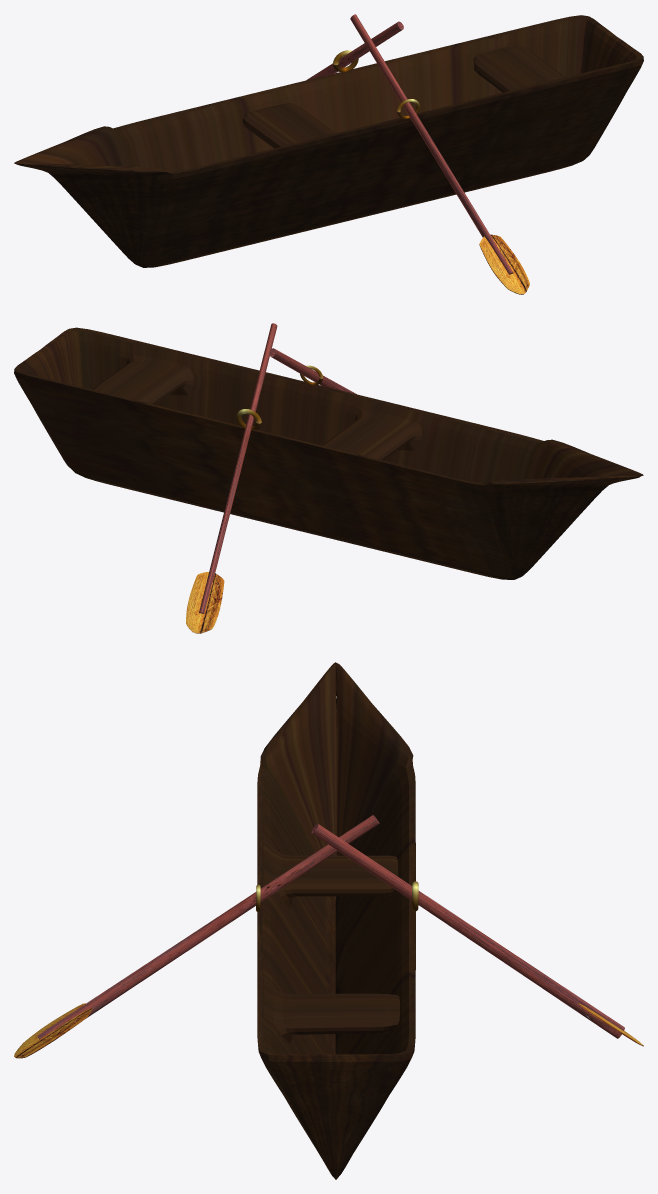
Rendered from stateczekMK4.glb.
The picture shows the model from 3 angles, top to bottom: view 1: azimuth 30°, elevation 25°; view 2: azimuth 150°, elevation 25°; view 3: azimuth 270°, elevation 25°; orthographic projection. The views are drawn at different scales.
Parts seen in each view (by area): view 1: Cube, Cylinder.001, Cube.002, Cylinder.002; view 2: Cube, Cylinder.002, Cube.001, Cylinder.001; view 3: Cube, Cylinder.002, Cylinder.001, Cube.002.
Boxes of the visible parts, <box> form: Cube: <box>14,15,643,267</box>; Cylinder.001: <box>350,14,513,274</box>; Cube.002: <box>479,234,529,294</box>; Cylinder.002: <box>306,21,403,80</box>; Cube: <box>14,327,643,579</box>; Cylinder.002: <box>199,323,277,613</box>; Cube.001: <box>186,572,224,633</box>; Cylinder.001: <box>269,348,356,394</box>; Cube: <box>257,662,415,1179</box>; Cylinder.002: <box>311,823,624,1038</box>; Cylinder.001: <box>37,815,379,1039</box>; Cube.002: <box>14,1003,92,1058</box>.
Bounding box in the file's own units: 10.27 × 3.29 × 7.42.
Materials: 7 (7 with a texture image).
